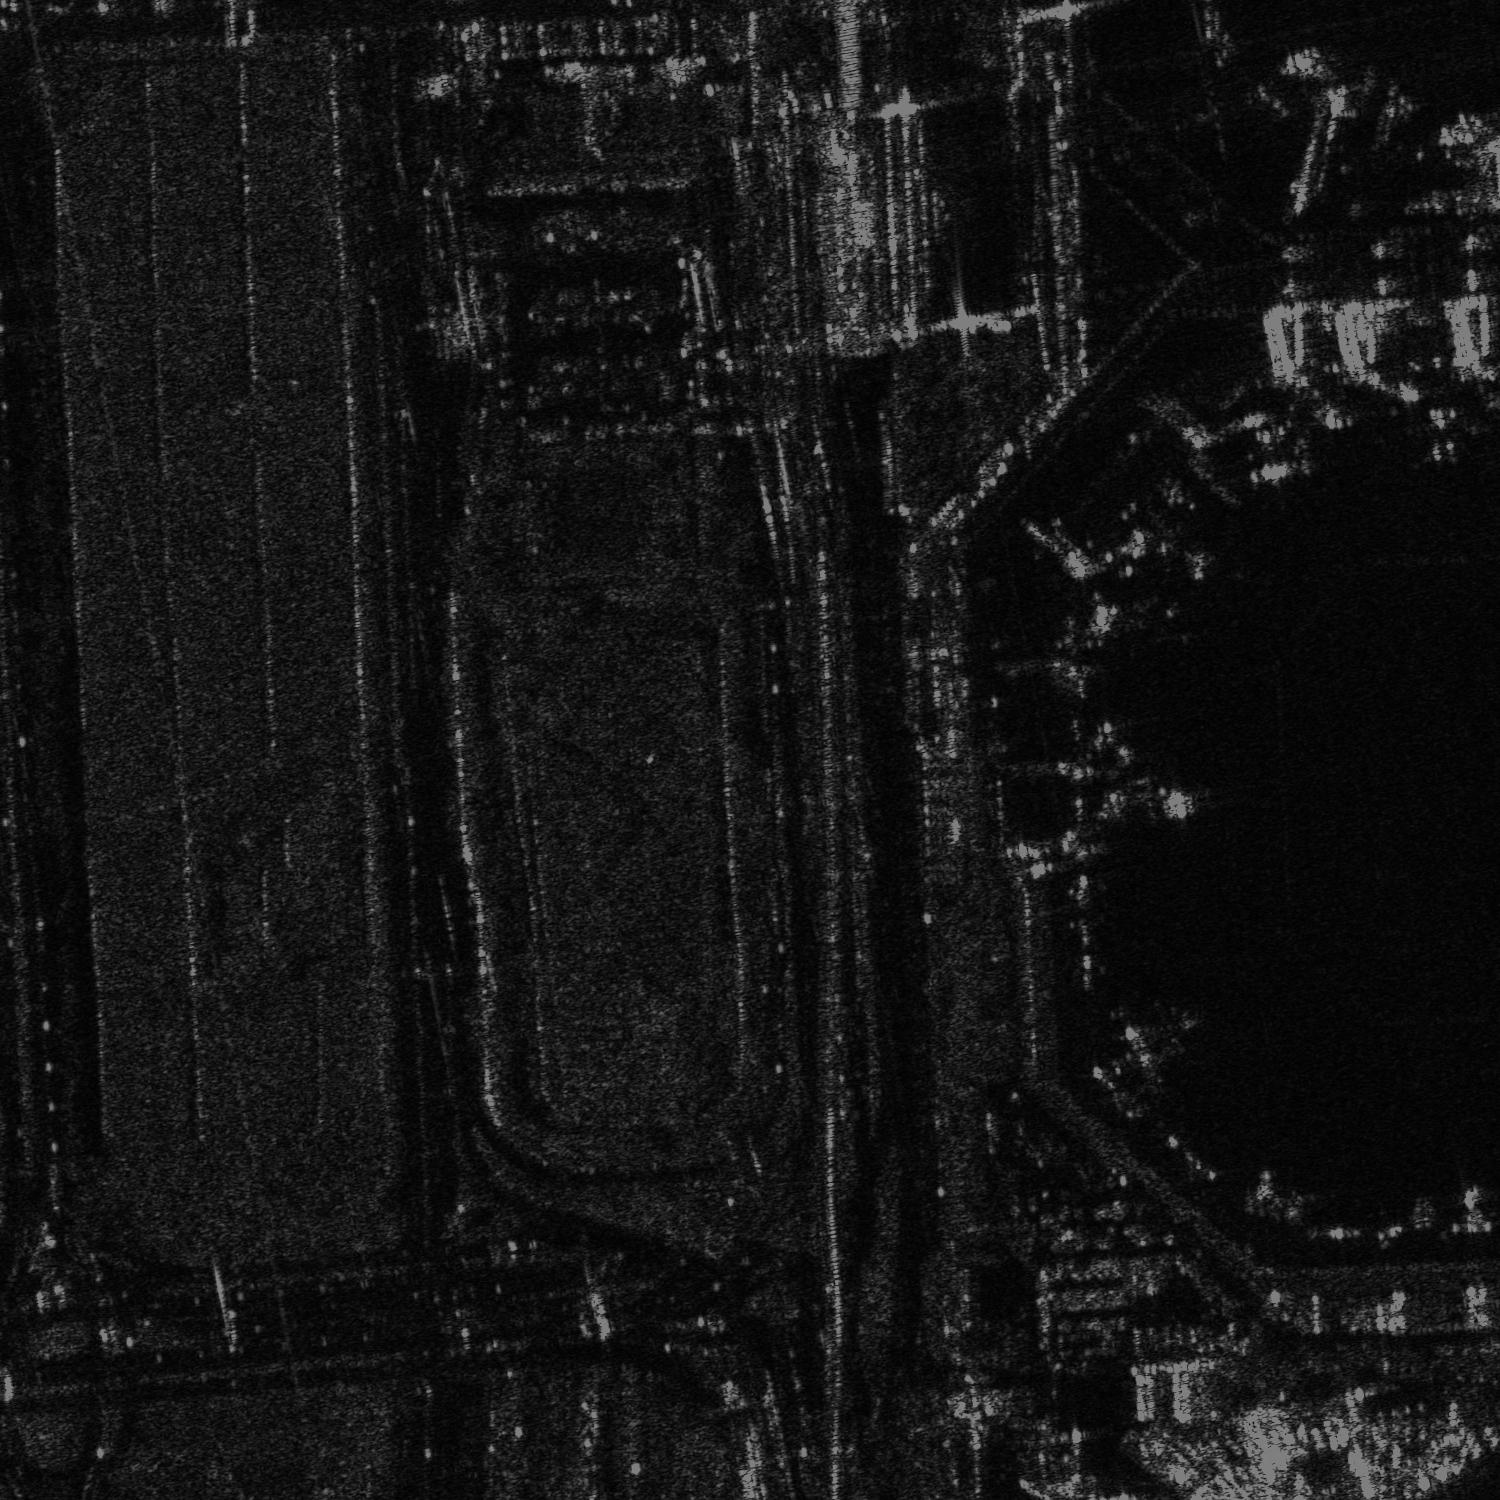A220: (1402, 389, 1499, 471), (1111, 1011, 1201, 1085)
